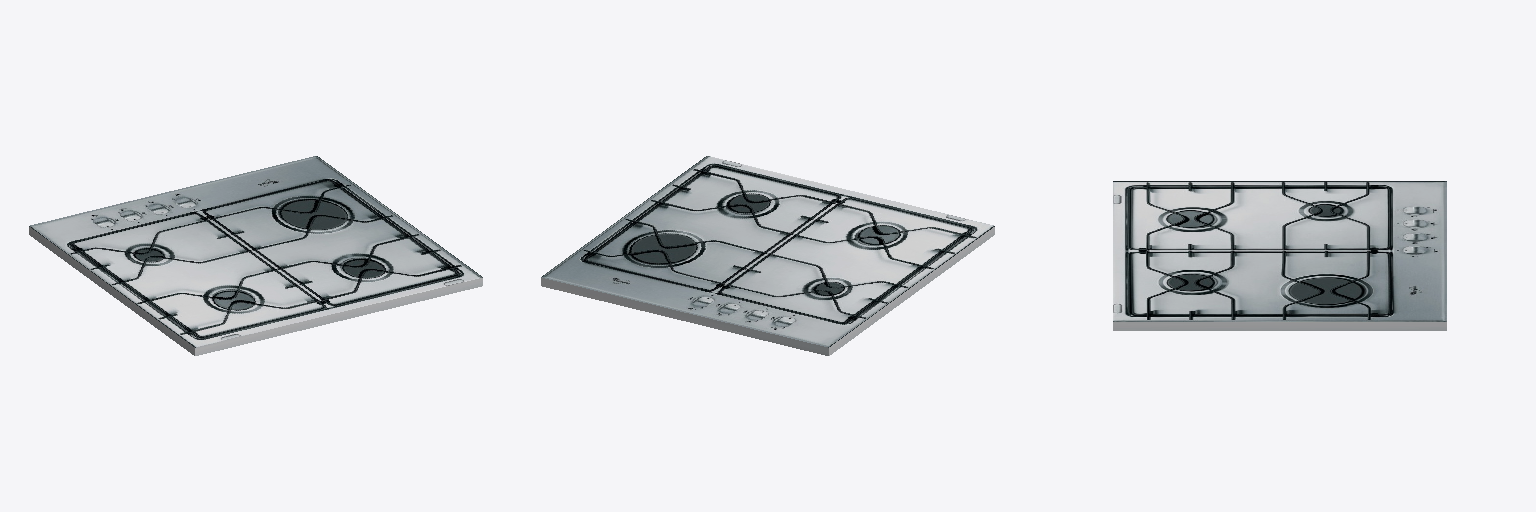
3 renders of one model, left to right at view 1: azimuth 30°, elevation 25°; view 2: azimuth 150°, elevation 25°; view 3: azimuth 270°, elevation 25°, orthographic.
Visible parts, largest first — view 1: Cube.003_Cube.004; view 2: Cube.003_Cube.004; view 3: Cube.003_Cube.004.
Boxes of the visible parts, <box> form: Cube.003_Cube.004: <box>29,156,482,355</box>; Cube.003_Cube.004: <box>541,156,994,355</box>; Cube.003_Cube.004: <box>1113,181,1446,330</box>.
Bounding box in the file's own units: 1.68 × 0.0487 × 1.68.
Materials: 1 (1 with a texture image).